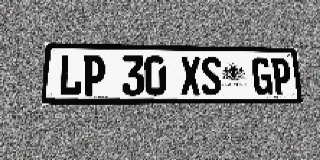0: (145, 56, 166, 96)
3: (122, 55, 144, 96)
G: (252, 57, 273, 95)
L: (58, 54, 83, 96)
P: (82, 55, 105, 96), (271, 58, 292, 95)
S: (201, 57, 222, 95)
X: (180, 56, 201, 95)
